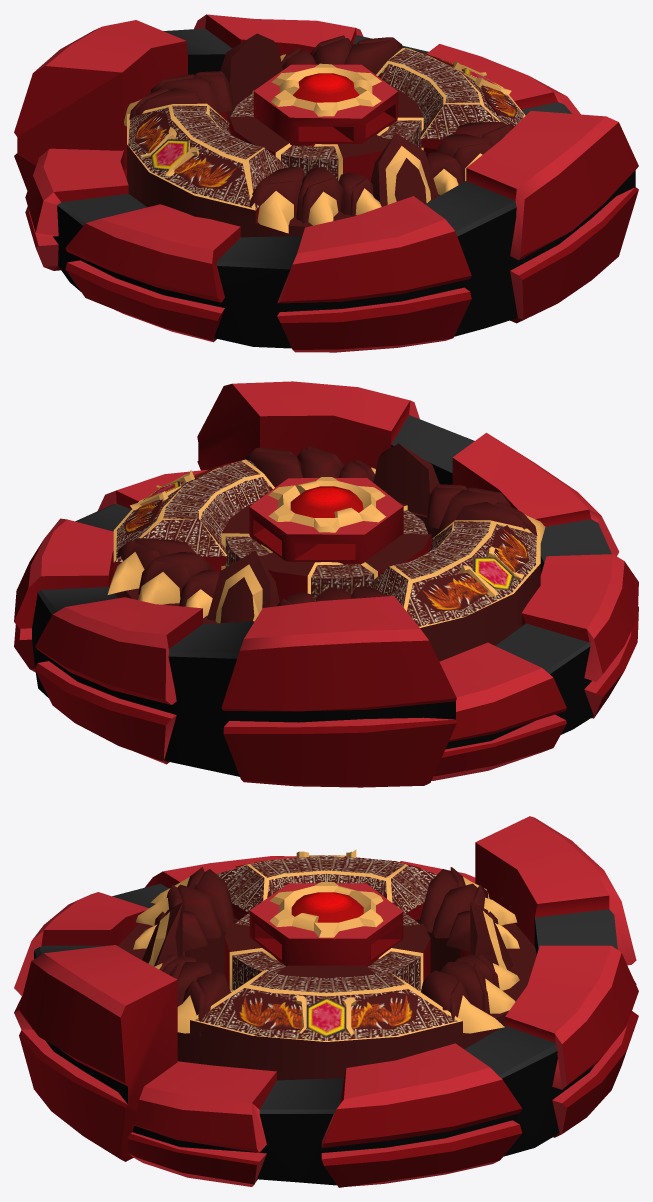
The model's file is Com3d_BbAI_saram2_N000out.obj.
The picture shows the model from 3 angles, top to bottom: view 1: azimuth 30°, elevation 25°; view 2: azimuth 150°, elevation 25°; view 3: azimuth 270°, elevation 25°; orthographic projection. The views are drawn at different scales.
Visible parts, largest first — view 1: Com3d_BbAI_saram2_N000out; view 2: Com3d_BbAI_saram2_N000out; view 3: Com3d_BbAI_saram2_N000out.
Boxes of the visible parts, x1,y1,x2,y2 form: Com3d_BbAI_saram2_N000out: (14,14,638,352); Com3d_BbAI_saram2_N000out: (14,381,638,787); Com3d_BbAI_saram2_N000out: (14,816,638,1187).
Bounding box in the file's own units: 29.12 × 9.14 × 28.78.
Materials: 1 (1 with a texture image).
